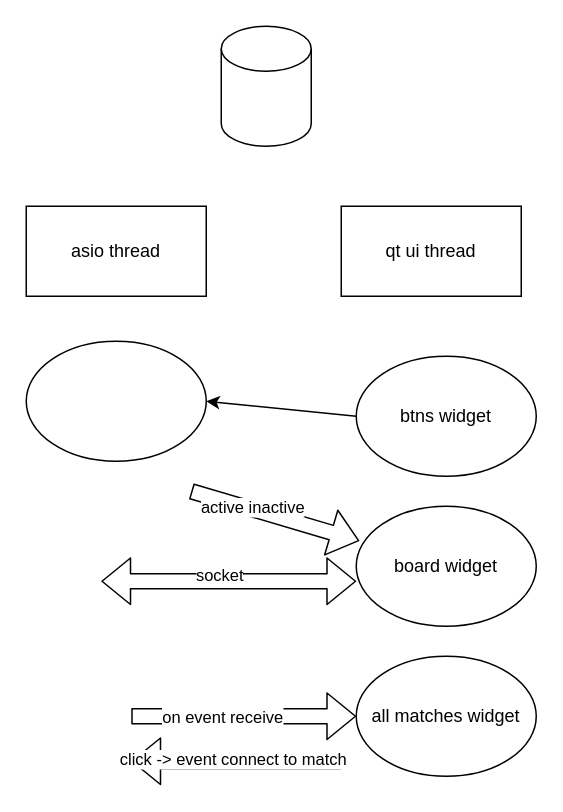
Some shapes in this 563 by 812 pixel diagram are drawn without their labels. Here are the shapes that lost their labels. From the top down, the centre of each, then its label:
pixel 265 85: atomical states
pixel 115 400: request api
